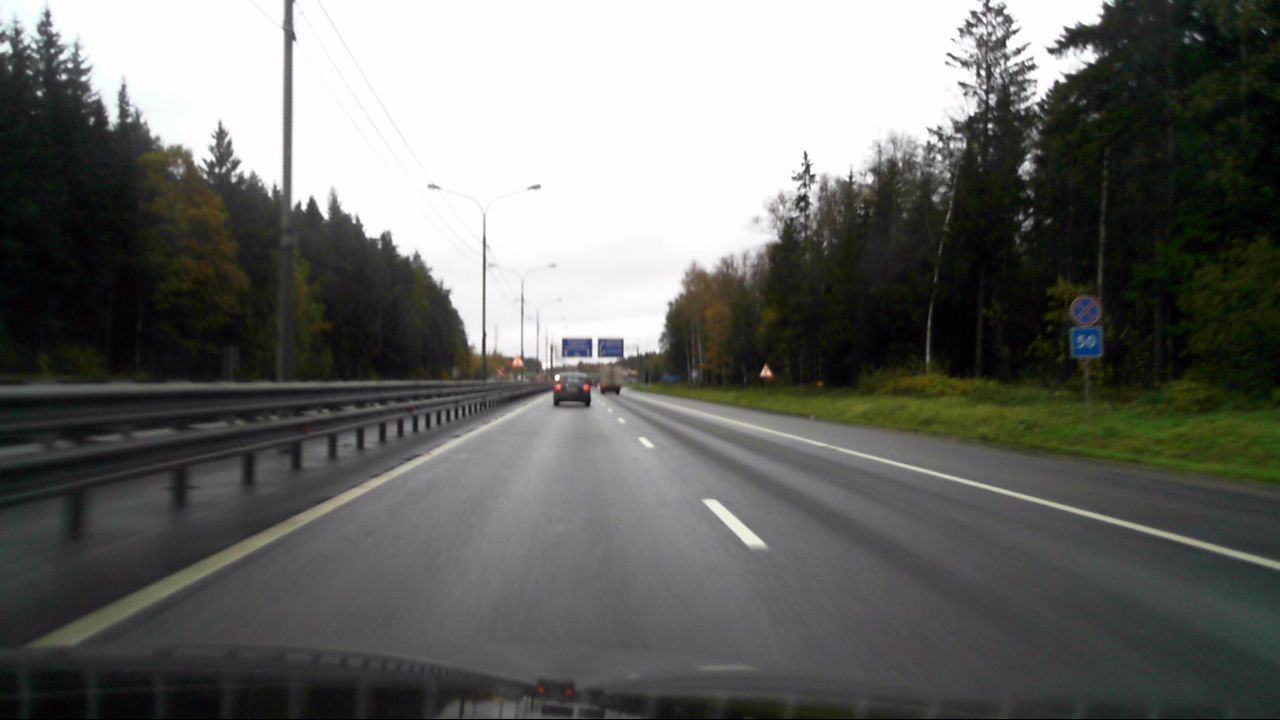No Parking: (1070, 292, 1100, 324)
